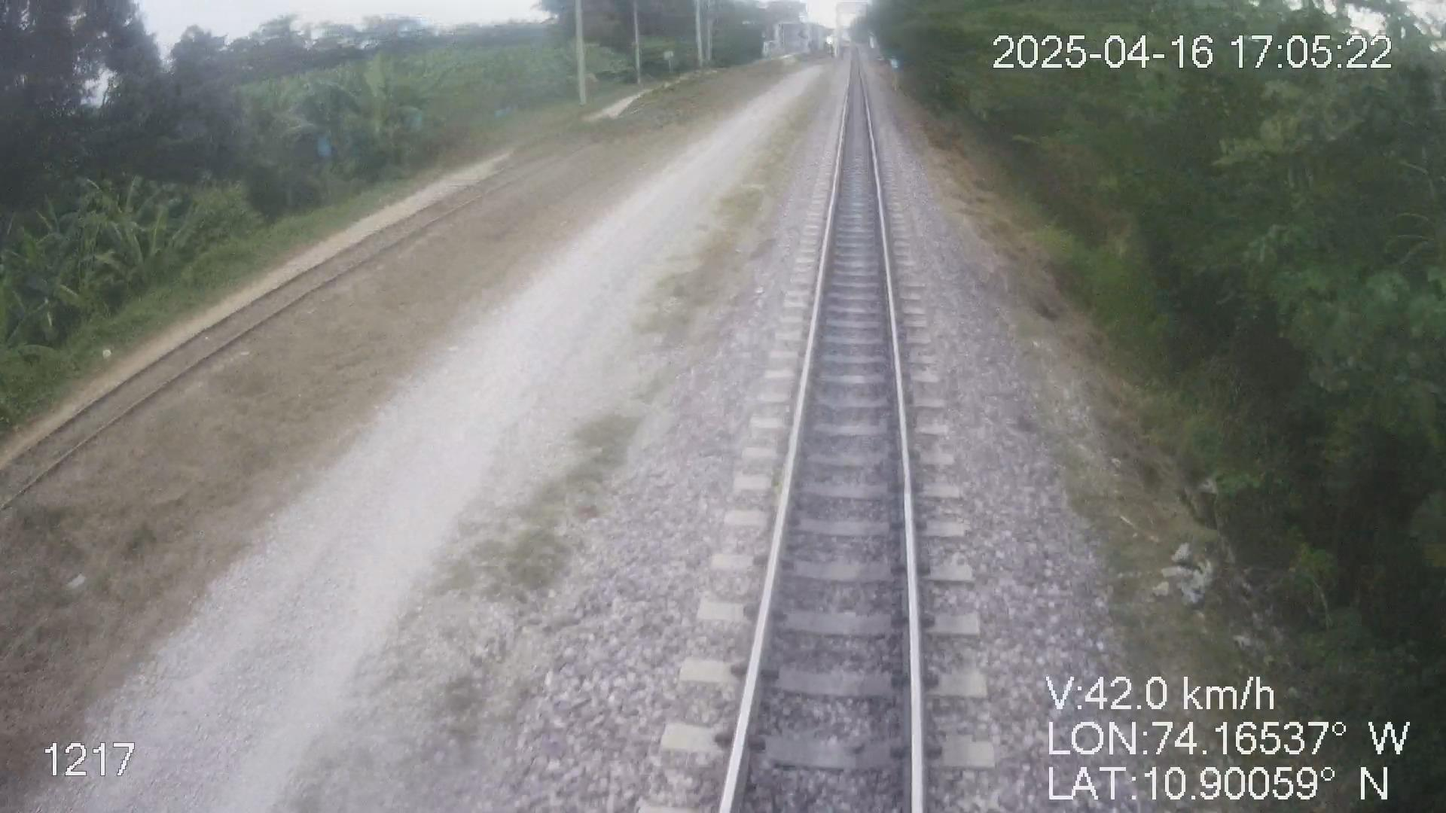Pasto: (0, 0, 803, 695), (871, 0, 1445, 812)
